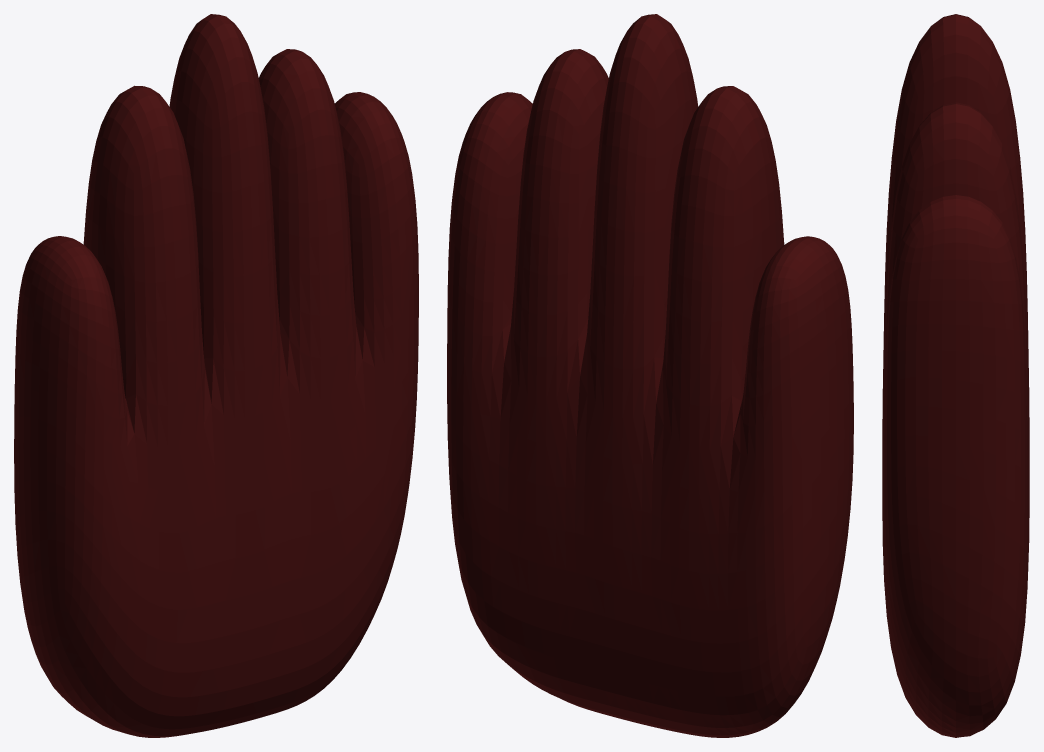
File: chocoHand.fbx
3 renders of one model, left to right at view 1: azimuth 30°, elevation 25°; view 2: azimuth 150°, elevation 25°; view 3: azimuth 270°, elevation 25°, orthographic. The views are drawn at different scales.
Parts seen in each view (by area): view 1: chocoHand; view 2: chocoHand; view 3: chocoHand.
Boxes of the visible parts, bbox=[...] form: chocoHand: bbox=[14, 14, 418, 737]; chocoHand: bbox=[447, 14, 853, 737]; chocoHand: bbox=[882, 14, 1029, 737].
Size of the model in its own units: 156 by 283 by 54.84.
